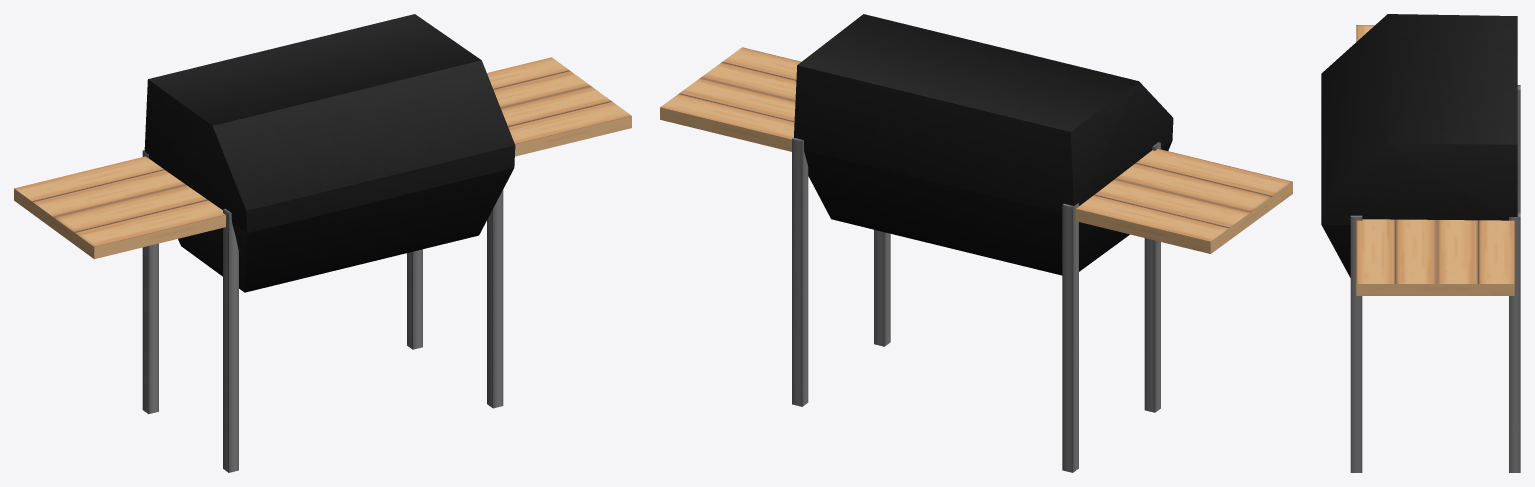
The model's file is BBQGrill.fbx.
The picture shows the model from 3 angles, left to right: view 1: azimuth 30°, elevation 25°; view 2: azimuth 150°, elevation 25°; view 3: azimuth 270°, elevation 25°; orthographic projection. The views are drawn at different scales.
Parts seen in each view (by area): view 1: Maya_File_Assets:TexturedAssetsCurrent:bbq_grill; view 2: Maya_File_Assets:TexturedAssetsCurrent:bbq_grill; view 3: Maya_File_Assets:TexturedAssetsCurrent:bbq_grill.
Part boxes in pixels (x1,y1,x2,y2): Maya_File_Assets:TexturedAssetsCurrent:bbq_grill: (14,14,631,472); Maya_File_Assets:TexturedAssetsCurrent:bbq_grill: (660,14,1292,472); Maya_File_Assets:TexturedAssetsCurrent:bbq_grill: (1321,14,1520,472).
Size of the model in its own units: 2.14 by 1.26 by 0.6943.
